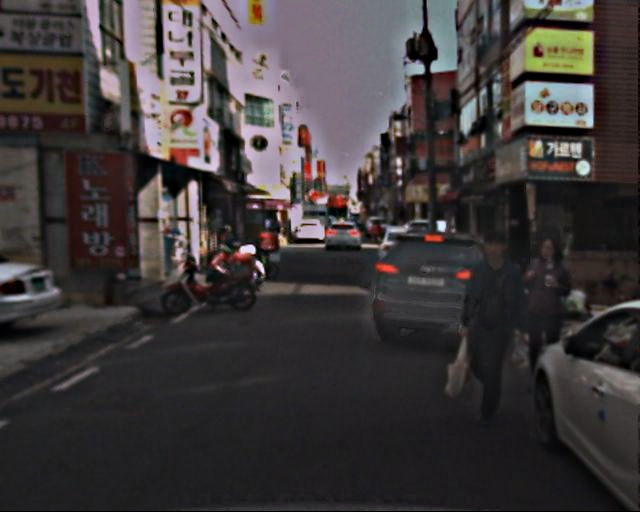person: (450, 233, 528, 423), (513, 238, 577, 387), (268, 216, 283, 252), (369, 224, 383, 243)
